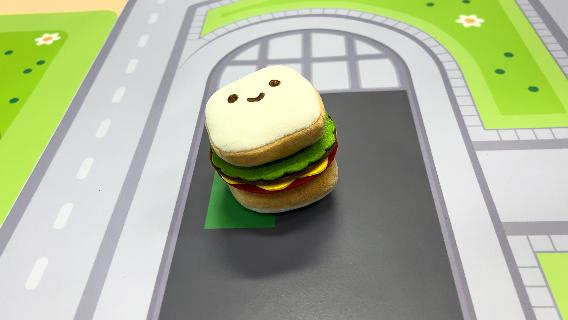sandwich: (203, 63, 341, 215)
